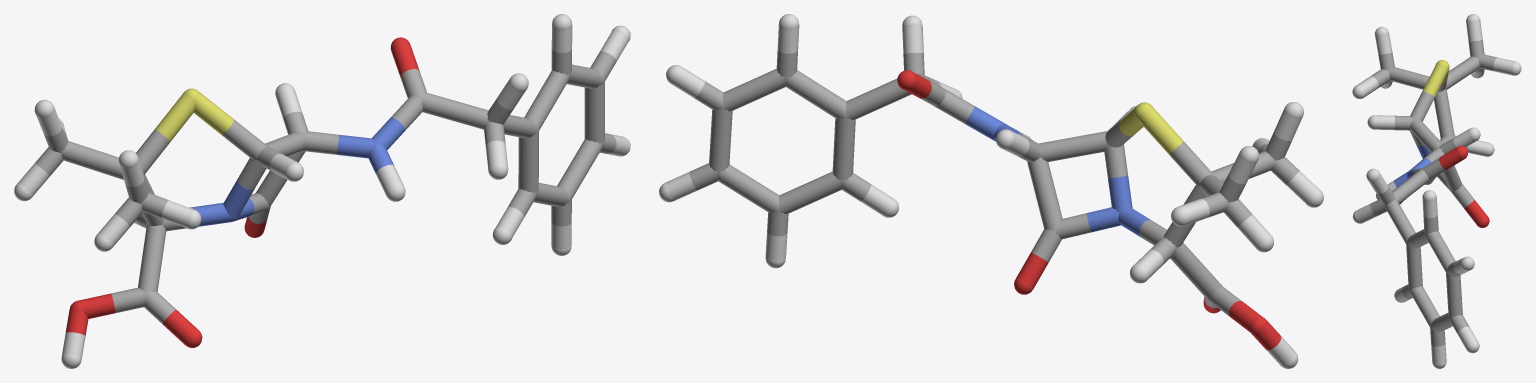
The model's file is penicillin-sticks.glb.
3 views of the same model, side by side, from view 1: azimuth 30°, elevation 25°; view 2: azimuth 150°, elevation 25°; view 3: azimuth 270°, elevation 25° (orthographic). The views are drawn at different scales.
Visible parts, largest first — view 1: penicillin-sticks; view 2: penicillin-sticks; view 3: penicillin-sticks.
Boxes of the visible parts, x1,y1,x2,y2 form: penicillin-sticks: [14, 14, 630, 368]; penicillin-sticks: [659, 14, 1323, 368]; penicillin-sticks: [1352, 14, 1521, 368].
Bounding box in the file's own units: 13.86 × 5.58 × 4.68.
